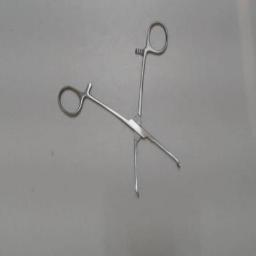Allis Tissue Forceps: (52, 16, 188, 206)
